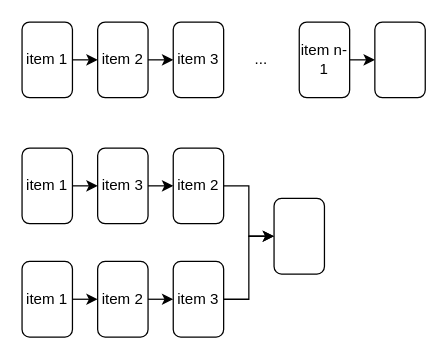
Some shapes in this 447 by 359 pixel diagram are drawn without their labels. Here are the shapes that lost their labels. From the top down, the centre of each, then its label:
the point at 399,59: item n
the point at 298,235: Predictor
